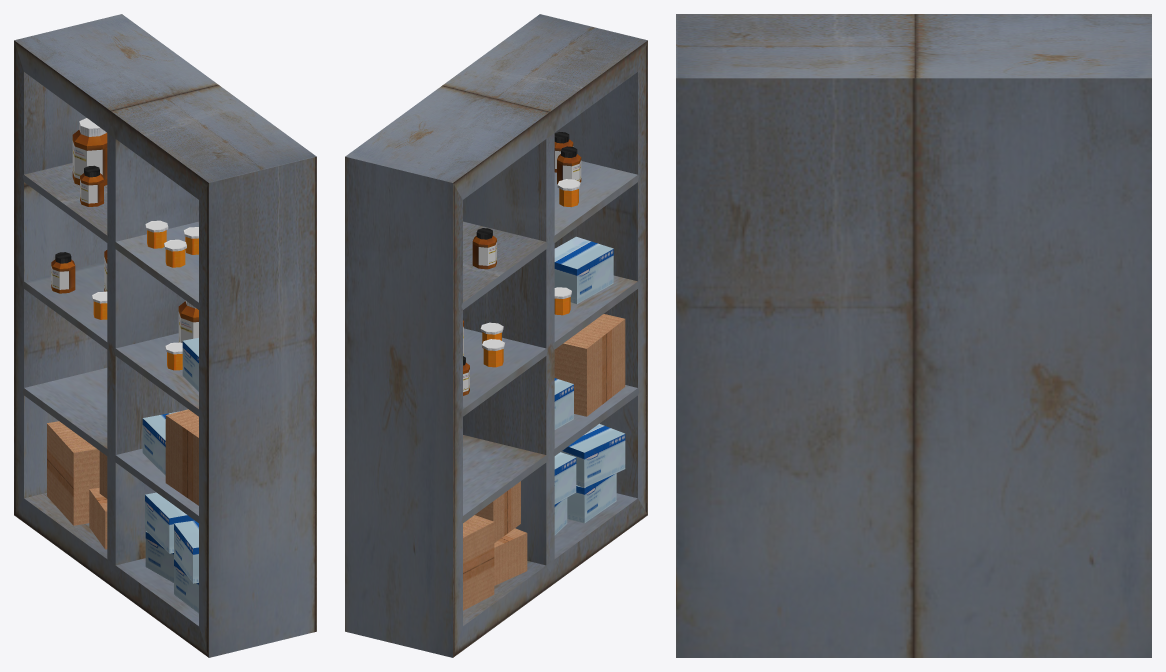
File: CabinetA.fbx
3 renders of one model, left to right at view 1: azimuth 30°, elevation 25°; view 2: azimuth 150°, elevation 25°; view 3: azimuth 270°, elevation 25°, orthographic. The views are drawn at different scales.
Visible parts, largest first — view 1: medicine cabinet, Cardboard, Cardboard.003, PillBottle, Box.003, Box.001, Box.004, PillBottle.006, Cardboard.001, Box.002, PillBottle.004, Box (+5 smaller); view 2: medicine cabinet, Cardboard.003, Box.005, Cardboard, Box.001, Box, Cardboard.001, Cardboard.002, Box.003, PillBottle.004, Box.004, PillBottle.001 (+3 smaller); view 3: medicine cabinet.
Part boxes in pixels (bbox=[...]): medicine cabinet: bbox=[14, 14, 316, 657]; Cardboard: bbox=[47, 421, 99, 525]; Cardboard.003: bbox=[165, 409, 198, 505]; PillBottle: bbox=[72, 118, 107, 185]; Box.003: bbox=[145, 492, 194, 553]; Box.001: bbox=[174, 520, 198, 583]; Box.004: bbox=[142, 411, 179, 475]; PillBottle.006: bbox=[51, 252, 75, 293]; Cardboard.001: bbox=[89, 488, 107, 549]; Box.002: bbox=[145, 531, 173, 582]; PillBottle.004: bbox=[80, 165, 103, 206]; Box: bbox=[174, 559, 198, 613]; medicine cabinet: bbox=[345, 14, 647, 657]; Cardboard.003: bbox=[554, 314, 625, 416]; Box.005: bbox=[554, 236, 613, 303]; Cardboard: bbox=[463, 515, 494, 610]; Box.001: bbox=[561, 423, 625, 487]; Box: bbox=[567, 473, 616, 523]; Cardboard.001: bbox=[494, 528, 527, 585]; Cardboard.002: bbox=[475, 481, 520, 542]; Box.003: bbox=[554, 452, 576, 504]; PillBottle.004: bbox=[472, 228, 496, 269]; Box.004: bbox=[554, 378, 573, 429]; PillBottle.001: bbox=[557, 146, 581, 184]; medicine cabinet: bbox=[676, 14, 1151, 657].
Size of the model in its own units: 187 by 786 by 585.
5 materials, 5 textured.
